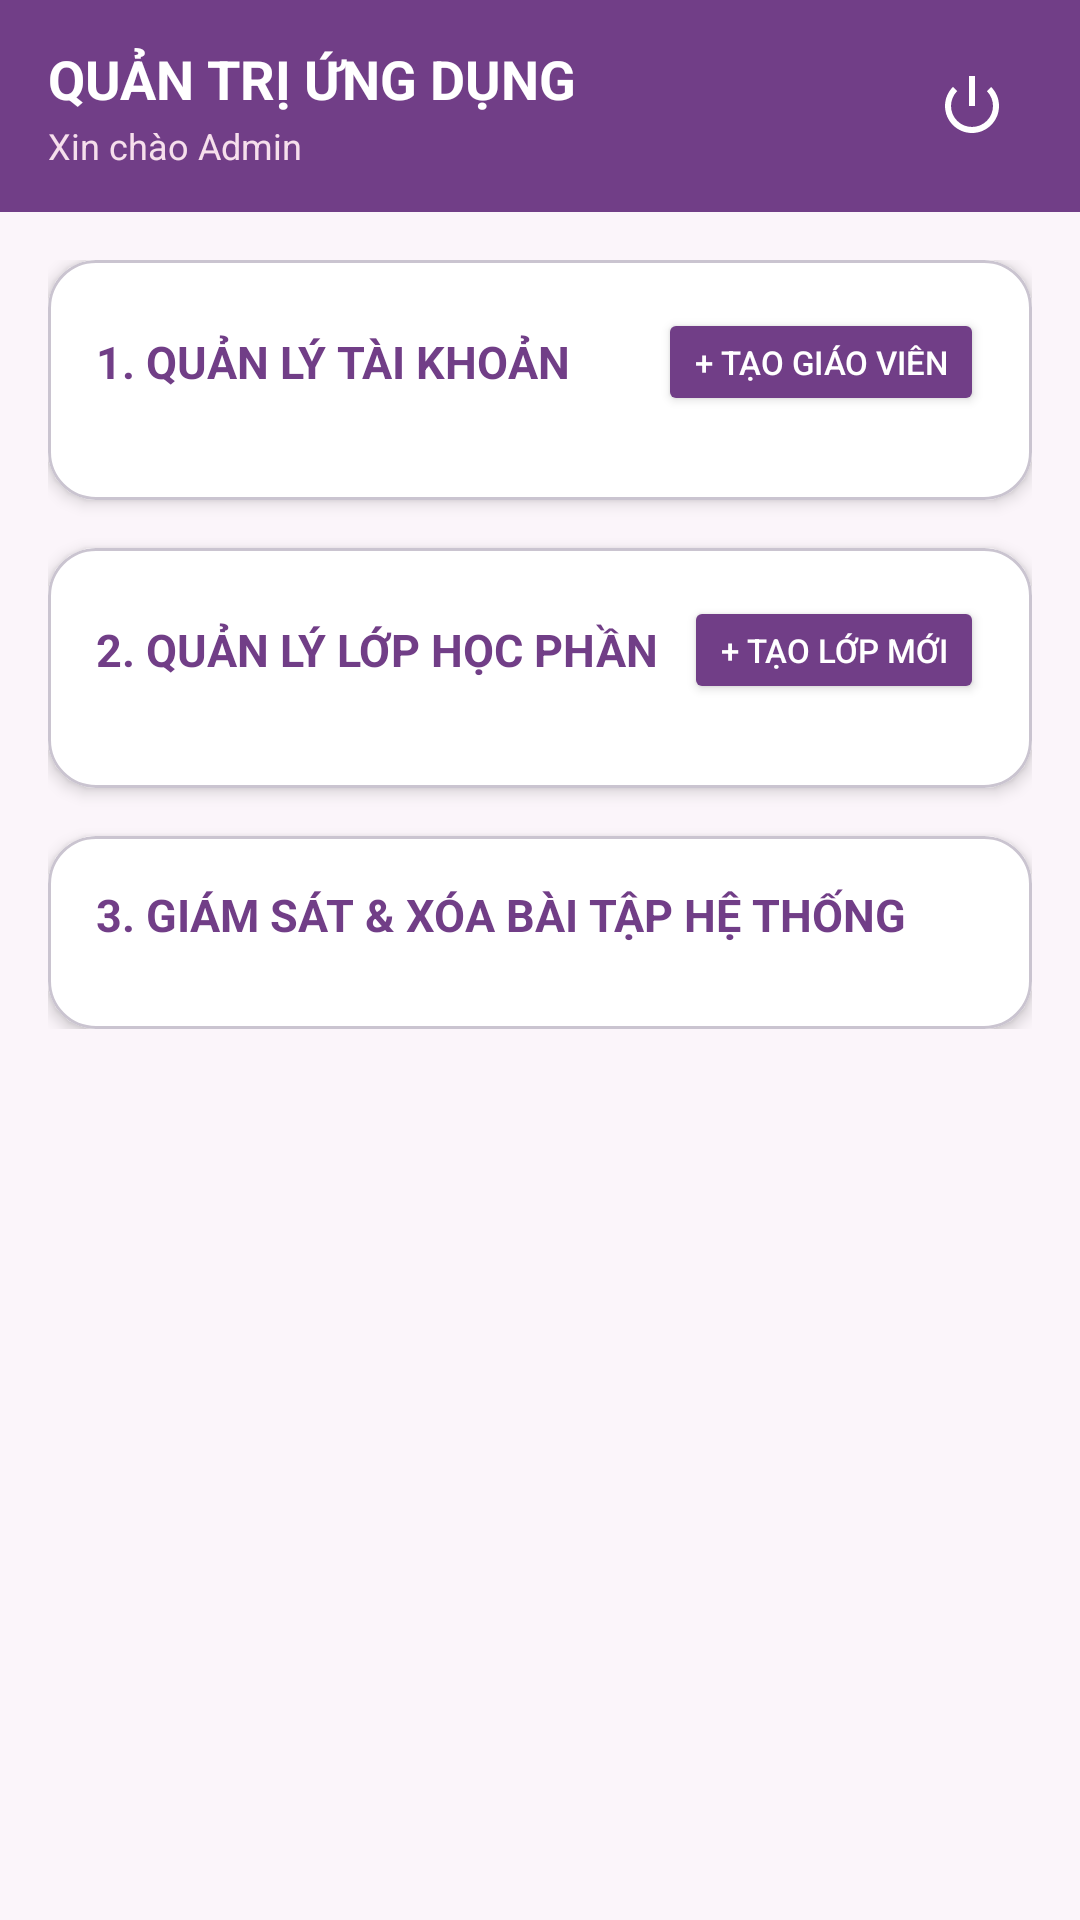

Where icons sit on this 1080×1920 app screen, as rect(x1, y1, x2, y2):
Đăng xuất: rect(945, 76, 999, 133)
